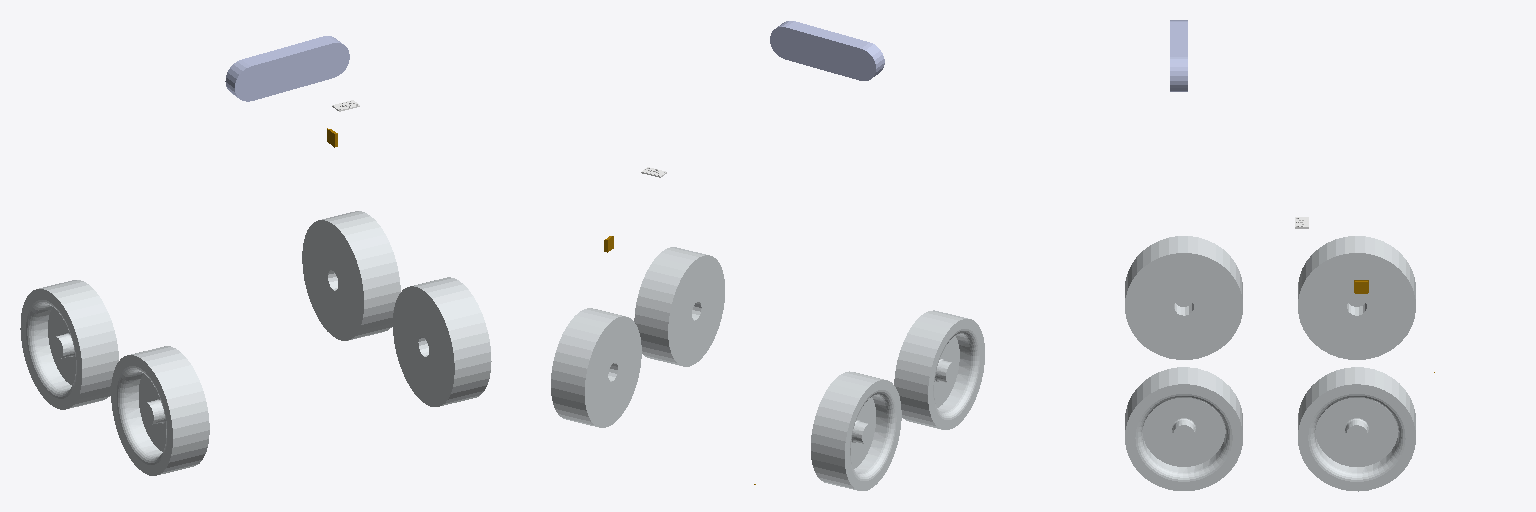
URDF robot description (inferno_bot):
<?xml version="1.0" encoding="utf-8"?>
<!-- This URDF was automatically created by SolidWorks to URDF Exporter! Originally created by [author] ([email redacted]) 
     Commit Version: 1.5.1-0-g916b5db  Build Version: 1.5.7152.31018
     For more information, please see http://wiki.ros.org/sw_urdf_exporter -->
<robot
  name="inferno_bot">
    <link name="base_footprint">
   <visual>
      <origin xyz="0 0 0" rpy="0 0 0" />
      <geometry>
        <box size="0.001 0.001 0.001" />
      </geometry>
    </visual>
  </link>

  <joint name="base_link_joint" type="fixed">
    <origin xyz="0 0 0" rpy="0 0 0" />
    <parent link="base_footprint"/>
    <child link="base_link" />
  </joint>
  <link
    name="base_link">
    <inertial>
      <origin
        xyz="0 -0.2 -0.5"
        rpy="1.57079632679 0 0" />
      <mass
        value="19.328" />
      <inertia
        ixx="0.32648"
        ixy="-0.0072637"
        ixz="-0.0050166"
        iyy="0.34393"
        iyz="0.011875"
        izz="0.33497" />
    </inertial>
    <visual>
      <origin
        xyz="0 0 0"
        rpy="0 0 0" />
      <geometry>
        <mesh
          filename="package://inferno_bot/meshes/base_link.STL" />
      </geometry>
      <material
        name="">
        <color
          rgba="0.89804 0.91765 0.92941 1" />
      </material>
    </visual>
    <collision>
      <origin
        xyz="0 0 0"
        rpy="0 0 0" />
      <geometry>
        <mesh
          filename="package://inferno_bot/meshes/base_link.STL" />
      </geometry>
    </collision>
  </link>
  <link
    name="lfr">
    <inertial>
      <origin
        xyz="0 0 0.0188774346977751"
        rpy="0 0 0" />
      <mass
        value="1.22379010652644" />
      <inertia
        ixx="0.00173774383873314"
        ixy="0"
        ixz="3.9001672522167E-19"
        iyy="0.00173774383873314"
        iyz="-2.33672244037105E-19"
        izz="0.0031034231481217" />
    </inertial>
    <visual>
      <origin
        xyz="0 0 0"
        rpy="0 0 0" />
      <geometry>
        <mesh
          filename="package://inferno_bot/meshes/lfr.STL" />
      </geometry>
      <material
        name="">
        <color
          rgba="0.898039215686275 0.917647058823529 0.929411764705882 1" />
      </material>
    </visual>
    <collision>
      <origin
        xyz="0 0 0"
        rpy="0 0 0" />
      <geometry>
        <mesh
          filename="package://inferno_bot/meshes/lfr.STL" />
      </geometry>
    </collision>
  </link>
  <joint
    name="jlfr"
    type="continuous">
    <origin
      xyz="0.23802 -0.2784 0.05214"
      rpy="1.5708 0.3156 1.5708" />
    <parent
      link="base_link" />
    <child
      link="lfr" />
    <axis
      xyz="0 0 1" />
  </joint>
  <link
    name="rfr">
    <inertial>
      <origin
        xyz="0 -3.46944695195361E-17 0.0188774346977752"
        rpy="0 0 0" />
      <mass
        value="1.22379010652644" />
      <inertia
        ixx="0.00173774383873314"
        ixy="5.42101086242752E-20"
        ixz="-3.11227358142309E-19"
        iyy="0.00173774383873314"
        iyz="-2.49624938129976E-19"
        izz="0.0031034231481217" />
    </inertial>
    <visual>
      <origin
        xyz="0 0 0"
        rpy="0 0 0" />
      <geometry>
        <mesh
          filename="package://inferno_bot/meshes/rfr.STL" />
      </geometry>
      <material
        name="">
        <color
          rgba="0.898039215686275 0.917647058823529 0.929411764705882 1" />
      </material>
    </visual>
    <collision>
      <origin
        xyz="0 0 0"
        rpy="0 0 0" />
      <geometry>
        <mesh
          filename="package://inferno_bot/meshes/rfr.STL" />
      </geometry>
    </collision>
  </link>
  <joint
    name="jrfr"
    type="continuous">
    <origin
      xyz="-0.061976 -0.2784 0.05214"
      rpy="1.5708 -0.3156 -1.5708" />
    <parent
      link="base_link" />
    <child
      link="rfr" />
    <axis
      xyz="0 0 1" />
  </joint>
  <link
    name="rbr">
    <inertial>
      <origin
        xyz="0 1.38777878078145E-17 0.0188774346977751"
        rpy="0 0 0" />
      <mass
        value="1.22379010652644" />
      <inertia
        ixx="0.00173774383873314"
        ixy="-8.13151629364128E-20"
        ixz="2.91114401643301E-20"
        iyy="0.00173774383873314"
        iyz="5.66832753405986E-21"
        izz="0.0031034231481217" />
    </inertial>
    <visual>
      <origin
        xyz="0 0 0"
        rpy="0 0 0" />
      <geometry>
        <mesh
          filename="package://inferno_bot/meshes/rbr.STL" />
      </geometry>
      <material
        name="">
        <color
          rgba="0.898039215686275 0.917647058823529 0.929411764705882 1" />
      </material>
    </visual>
    <collision>
      <origin
        xyz="0 0 0"
        rpy="0 0 0" />
      <geometry>
        <mesh
          filename="package://inferno_bot/meshes/rbr.STL" />
      </geometry>
    </collision>
  </link>
  <joint
    name="jrbr"
    type="continuous">
    <origin
      xyz="-0.061976 -0.086396 0.05214"
      rpy="-1.5708 1.3758 1.5708" />
    <parent
      link="base_link" />
    <child
      link="rbr" />
    <axis
      xyz="0 0 1" />
  </joint>
  <link
    name="lbr">
    <inertial>
      <origin
        xyz="-1.38777878078145E-17 0 0.0188774346977751"
        rpy="0 0 0" />
      <mass
        value="1.22379010652645" />
      <inertia
        ixx="0.00173774383873314"
        ixy="2.71050543121376E-20"
        ixz="6.63506635774469E-20"
        iyy="0.00173774383873314"
        iyz="-5.2484015150472E-21"
        izz="0.0031034231481217" />
    </inertial>
    <visual>
      <origin
        xyz="0 0 0"
        rpy="0 0 0" />
      <geometry>
        <mesh
          filename="package://inferno_bot/meshes/lbr.STL" />
      </geometry>
      <material
        name="">
        <color
          rgba="0.898039215686275 0.917647058823529 0.929411764705882 1" />
      </material>
    </visual>
    <collision>
      <origin
        xyz="0 0 0"
        rpy="0 0 0" />
      <geometry>
        <mesh
          filename="package://inferno_bot/meshes/lbr.STL" />
      </geometry>
    </collision>
  </link>
  <joint
    name="jlbr"
    type="continuous">
    <origin
      xyz="0.23802 -0.086396 0.05214"
      rpy="-1.5708 -1.3758 -1.5708" />
    <parent
      link="base_link" />
    <child
      link="lbr" />
    <axis
      xyz="0 0 1" />
  </joint>
  <link
    name="lidar">
    <inertial>
      <origin
        xyz="-0.00748346988333637 -0.0106681277328403 -9.19261110875341E-05"
        rpy="0 0 0" />
      <mass
        value="1.33076913637071" />
      <inertia
        ixx="0.000614917940454091"
        ixy="-0.00015824302591117"
        ixz="-8.01984318974931E-07"
        iyy="0.00109815200027136"
        iyz="3.09162986587583E-06"
        izz="0.000960697335617223" />
    </inertial>
    <visual>
      <origin
        xyz="0 0 0"
        rpy="0 0 0" />
      <geometry>
        <mesh
          filename="package://inferno_bot/meshes/lidar.STL" />
      </geometry>
      <material
        name="">
        <color
          rgba="0.792156862745098 0.819607843137255 0.933333333333333 1" />
      </material>
    </visual>
    <collision>
      <origin
        xyz="0 0 0"
        rpy="0 0 0" />
      <geometry>
        <mesh
          filename="package://inferno_bot/meshes/lidar.STL" />
      </geometry>
    </collision>
  </link>
  <joint
    name="jlidar"
    type="fixed">
    <origin
      xyz="0.10599 -0.16721 0.29424"
      rpy="-1.5708 0 -1.5708" />
    <parent
      link="base_link" />
    <child
      link="lidar" />
    <axis
      xyz="0 0 0" />
  </joint>
  <link
    name="camera">
    <inertial>
      <origin
        xyz="0.00487804878048782 -5.55111512312578E-17 0.01"
        rpy="0 0 0" />
      <mass
        value="0.108324899183498" />
      <inertia
        ixx="1.78447644899076E-05"
        ixy="4.95514274143766E-20"
        ixz="1.39929372506814E-21"
        iyy="0.00016353799212103"
        iyz="3.18840810659321E-22"
        izz="0.000174161096665371" />
    </inertial>
    <visual>
      <origin
        xyz="0 0 0"
        rpy="0 0 0" />
      <geometry>
        <mesh
          filename="package://inferno_bot/meshes/camera.STL" />
      </geometry>
      <material
        name="">
        <color
          rgba="0.792156862745098 0.819607843137255 0.933333333333333 1" />
      </material>
    </visual>
    <collision>
      <origin
        xyz="0 0 0"
        rpy="0 0 0" />
      <geometry>
        <mesh
          filename="package://inferno_bot/meshes/camera.STL" />
      </geometry>
    </collision>
  </link>
  <joint
    name="jcamera"
    type="fixed">
    <origin
      xyz="0.063095 -0.27428 0.41921"
      rpy="1.5708 -0.037694 0" />
    <parent
      link="base_link" />
    <child
      link="camera" />
    <axis
      xyz="0 0 0" />
  </joint>
  <link
    name="gps">
    <inertial>
      <origin
        xyz="0.00831765719568933 0.00220465717156251 0.00800760937383431"
        rpy="0 0 0" />
      <mass
        value="0.00102542780831628" />
      <inertia
        ixx="2.1086651163549E-08"
        ixy="-1.9350067087283E-10"
        ixz="-9.56953752544396E-13"
        iyy="3.89948879074694E-08"
        iyz="-7.95683863873784E-12"
        izz="2.14311650217245E-08" />
    </inertial>
    <visual>
      <origin
        xyz="0 0 0"
        rpy="0 0 0" />
      <geometry>
        <mesh
          filename="package://inferno_bot/meshes/gps.STL" />
      </geometry>
      <material
        name="">
        <color
          rgba="0.72156862745098 0.525490196078431 0.0431372549019608 1" />
      </material>
    </visual>
    <collision>
      <origin
        xyz="0 0 0"
        rpy="0 0 0" />
      <geometry>
        <mesh
          filename="package://inferno_bot/meshes/gps.STL" />
      </geometry>
    </collision>
  </link>
  <joint
    name="jgps"
    type="fixed">
    <origin
      xyz="0.23802 -0.073252 0.22476"
      rpy="1.5708 1.5708 0" />
    <parent
      link="base_link" />
    <child
      link="gps" />
    <axis
      xyz="0 0 0" />
  </joint>
  <link
    name="imu">
    <inertial>
      <origin
        xyz="0 0 0"
        rpy="0 0 0" />
      <mass
        value="0" />
      <inertia
        ixx="0"
        ixy="0"
        ixz="0"
        iyy="0"
        iyz="0"
        izz="0" />
    </inertial>
    <visual>
      <origin
        xyz="0 0 0"
        rpy="0 0 0" />
      <geometry>
        <mesh
          filename="package://inferno_bot/meshes/imu.STL" />
      </geometry>
      <material
        name="">
        <color
          rgba="1 1 1 1" />
      </material>
    </visual>
    <collision>
      <origin
        xyz="0 0 0"
        rpy="0 0 0" />
      <geometry>
        <mesh
          filename="package://inferno_bot/meshes/imu.STL" />
      </geometry>
    </collision>
  </link>
  <joint
    name="jimu"
    type="fixed">
    <origin
      xyz="0.21874 -0.14723 0.28544"
      rpy="1.5708 0 0" />
    <parent
      link="base_link" />
    <child
      link="imu" />
    <axis
      xyz="0 0 0" />
  </joint>
<gazebo>
  <plugin name="differential_drive_controller" filename="libgazebo_ros_diff_drive.so">

    <!-- Plugin update rate in Hz -->
    <updateRate>20</updateRate>

    <!-- Name of left joint, defaults to `left_joint` -->
    <leftJoint>jlfr</leftJoint>

    <!-- Name of right joint, defaults to `right_joint` -->
    <rightJoint>jrfr</rightJoint>

    <!-- The distance from the center of one wheel to the other, in meters, defaults to 0.34 m -->
    <wheelSeparation>0.3645</wheelSeparation>

    <!-- Diameter of the wheels, in meters, defaults to 0.15 m -->
    <wheelDiameter>0.1316</wheelDiameter>

    <!-- Wheel acceleration, in rad/s^2, defaults to 0.0 rad/s^2 -->
    <wheelAcceleration>1.0</wheelAcceleration>

    <!-- Maximum torque which the wheels can produce, in Nm, defaults to 5 Nm -->
    <wheelTorque>20</wheelTorque>

    <!-- Topic to receive geometry_msgs/Twist message commands, defaults to `cmd_vel` -->
    <commandTopic>cmd_vel</commandTopic>

    <!-- Topic to publish nav_msgs/Odometry messages, defaults to `odom` -->
    <odometryTopic>odom</odometryTopic>

    <!-- Odometry frame, defaults to `odom` -->
    <odometryFrame>odom</odometryFrame>

    <!-- Robot frame to calculate odometry from, defaults to `base_footprint` -->
    <robotBaseFrame>base_link</robotBaseFrame>

    <!-- Odometry source, 0 for ENCODER, 1 for WORLD, defaults to WORLD -->
    <odometrySource>1</odometrySource>

    <!-- Set to true to publish transforms for the wheel links, defaults to false -->
    <publishWheelTF>true</publishWheelTF>

    <!-- Set to true to publish transforms for the odometry, defaults to true -->
    <publishOdom>true</publishOdom>

    <!-- Set to true to publish sensor_msgs/JointState on /joint_states for the wheel joints, defaults to false -->
    <publishWheelJointState>true</publishWheelJointState>

    <!-- Set to true to swap right and left wheels, defaults to true -->
    <legacyMode>false</legacyMode>
  </plugin>
</gazebo>
</robot>

--- What the picture shows (computed from the rendered views, not written in the file) ---
The picture shows the robot from 3 angles, left to right: view 1: azimuth 30°, elevation 25°; view 2: azimuth 150°, elevation 25°; view 3: azimuth 270°, elevation 25°; orthographic projection.
Robot: inferno_bot — 10 links, 9 joints (4 continuous, 5 fixed); root link base_footprint; default pose: every joint at zero.
Visible links, largest first — view 1: rfr, lfr, lbr, rbr, camera; view 2: lbr, rbr, lfr, rfr, camera; view 3: rfr, lbr, lfr, rbr, camera.
Boxes of the visible links, box(x1,y1,x2,y2) form: rfr: box(111, 346, 209, 475); lfr: box(393, 277, 491, 406); lbr: box(302, 211, 400, 340); rbr: box(20, 280, 118, 409); camera: box(225, 36, 349, 101); lbr: box(551, 308, 641, 427); rbr: box(811, 371, 901, 490); lfr: box(634, 247, 724, 366); rfr: box(894, 310, 984, 429); camera: box(770, 21, 884, 80); rfr: box(1125, 236, 1242, 359); lbr: box(1298, 367, 1415, 491); lfr: box(1125, 367, 1242, 490); rbr: box(1298, 236, 1415, 359); camera: box(1170, 20, 1187, 91).
Bounding box of the posed robot: 0.39 × 0.3447 × 0.4554 m (x, y, z).
Meshes: 9 distinct files referenced, 7 mesh visuals loaded (7 binary STL); not drawn: 2 (reference not matched to a file when rendering).